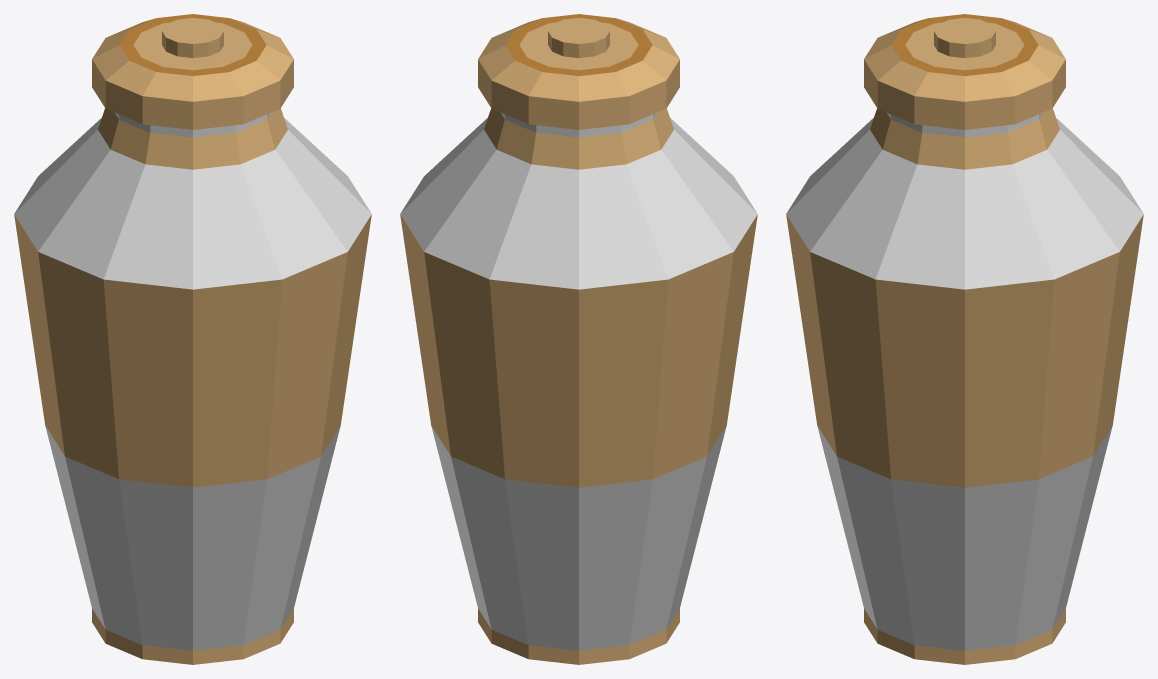
The model's file is Tall Vase.glb.
The picture shows the model from 3 angles, left to right: view 1: azimuth 30°, elevation 25°; view 2: azimuth 150°, elevation 25°; view 3: azimuth 270°, elevation 25°; orthographic projection.
Parts seen in each view (by area): view 1: node_MeshObject-1923486848-PolyPaper18; view 2: node_MeshObject-1923486848-PolyPaper18; view 3: node_MeshObject-1923486848-PolyPaper18.
Part boxes in pixels (box(x1,y1,x2,y2)): node_MeshObject-1923486848-PolyPaper18: box(14, 14, 371, 664); node_MeshObject-1923486848-PolyPaper18: box(400, 14, 757, 664); node_MeshObject-1923486848-PolyPaper18: box(786, 14, 1143, 664).
Size of the model in its own units: 0.2303 by 0.42 by 0.2303.
